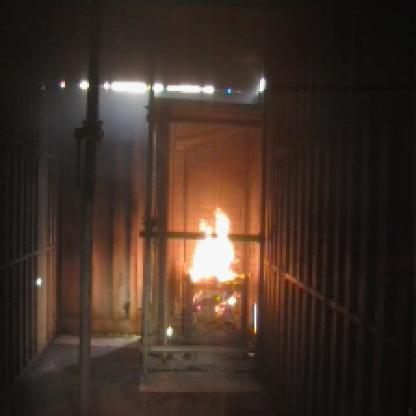Fire: (169, 206, 251, 320)
